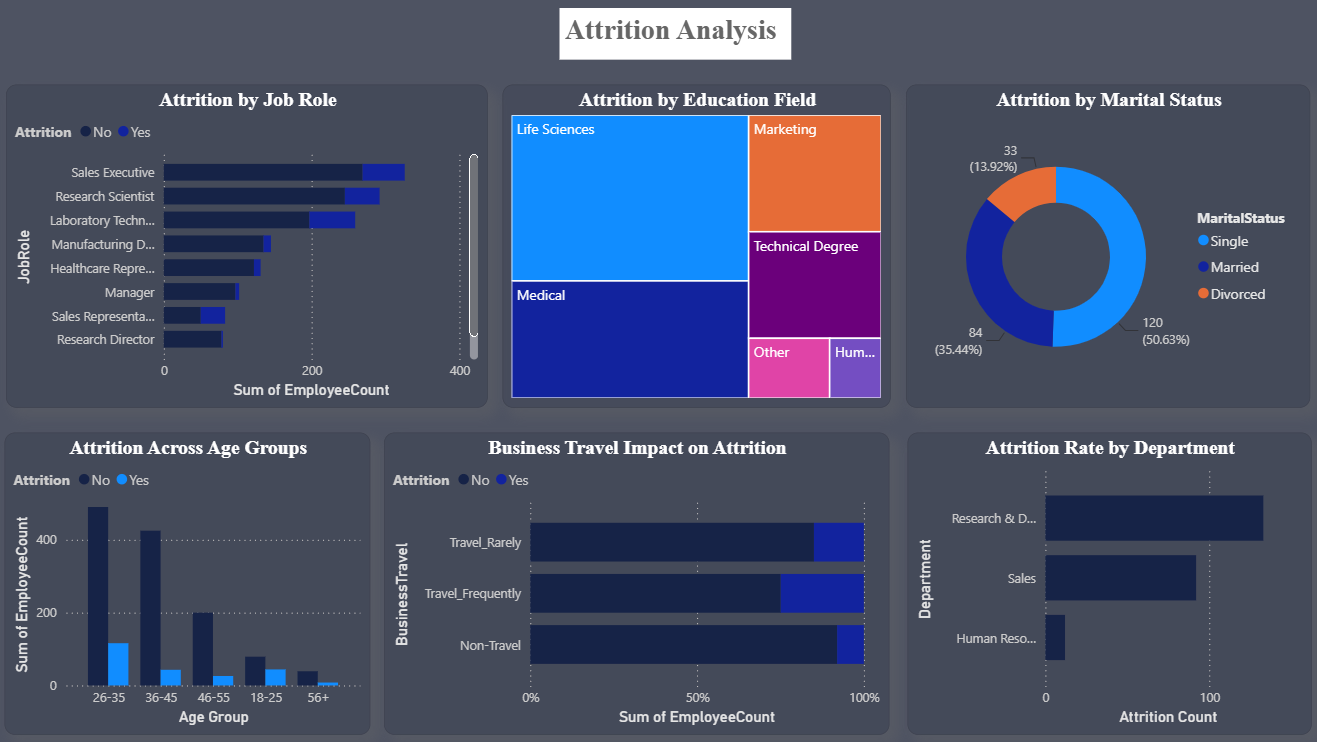

Layout of this report page (visuals, bound fields, positions):
{"tool":"powerbi","page":{"name":"Attrition Analysis","canvas":[1280,720],"ordinal":1},"visuals":[{"type":"textbox","box":[548,17,221.1,49.1],"z":0},{"type":"barChart","title":"Attrition by Job Role","fields":{"Category":["HR.JobRole"],"Y":["Sum(HR.EmployeeCount)"],"Series":["HR.Attrition"]},"box":[19.7,90.9,460.3,308.9],"z":1000},{"type":"clusteredColumnChart","title":"Attrition Across Age Groups","fields":{"Category":["HR.Age Group"],"Y":["Sum(HR.EmployeeCount)"],"Series":["HR.Attrition"]},"box":[19,422.2,349.2,288.9],"z":2000},{"type":"donutChart","title":"Attrition by Marital Status","fields":{"Category":["HR.MaritalStatus"],"Y":["Sum(HR.EmployeeCount)"]},"box":[879.8,90.9,386.1,308.9],"z":3000},{"type":"treemap","title":"Attrition by Education Field","fields":{"Group":["HR.EducationField"],"Values":["Sum(HR.EmployeeCount)"]},"box":[493.6,90.9,371,308.9],"z":4000},{"type":"hundredPercentStackedBarChart","title":"Business Travel Impact on Attrition","fields":{"Category":["HR.BusinessTravel"],"Y":["Sum(HR.EmployeeCount)"],"Series":["HR.Attrition"]},"box":[381,422.2,482.5,288.9],"z":5000},{"type":"clusteredBarChart","title":"Attrition Rate by Department","fields":{"Category":["HR.Department"],"Y":["HR.Attrition Count"]},"box":[881,422.2,385.7,288.9],"z":6000}]}

Visuals, with their boxes in screenshot pixels (x1, y1, x2, y2), scaled from the page's 1280x720 canvas onto the 1317x742 screenshot:
textbox: bbox=(564, 18, 791, 68)
"Attrition by Job Role" barChart: bbox=(20, 94, 494, 412)
"Attrition Across Age Groups" clusteredColumnChart: bbox=(20, 435, 379, 733)
"Attrition by Marital Status" donutChart: bbox=(905, 94, 1302, 412)
"Attrition by Education Field" treemap: bbox=(508, 94, 890, 412)
"Business Travel Impact on Attrition" hundredPercentStackedBarChart: bbox=(392, 435, 888, 733)
"Attrition Rate by Department" clusteredBarChart: bbox=(906, 435, 1303, 733)
